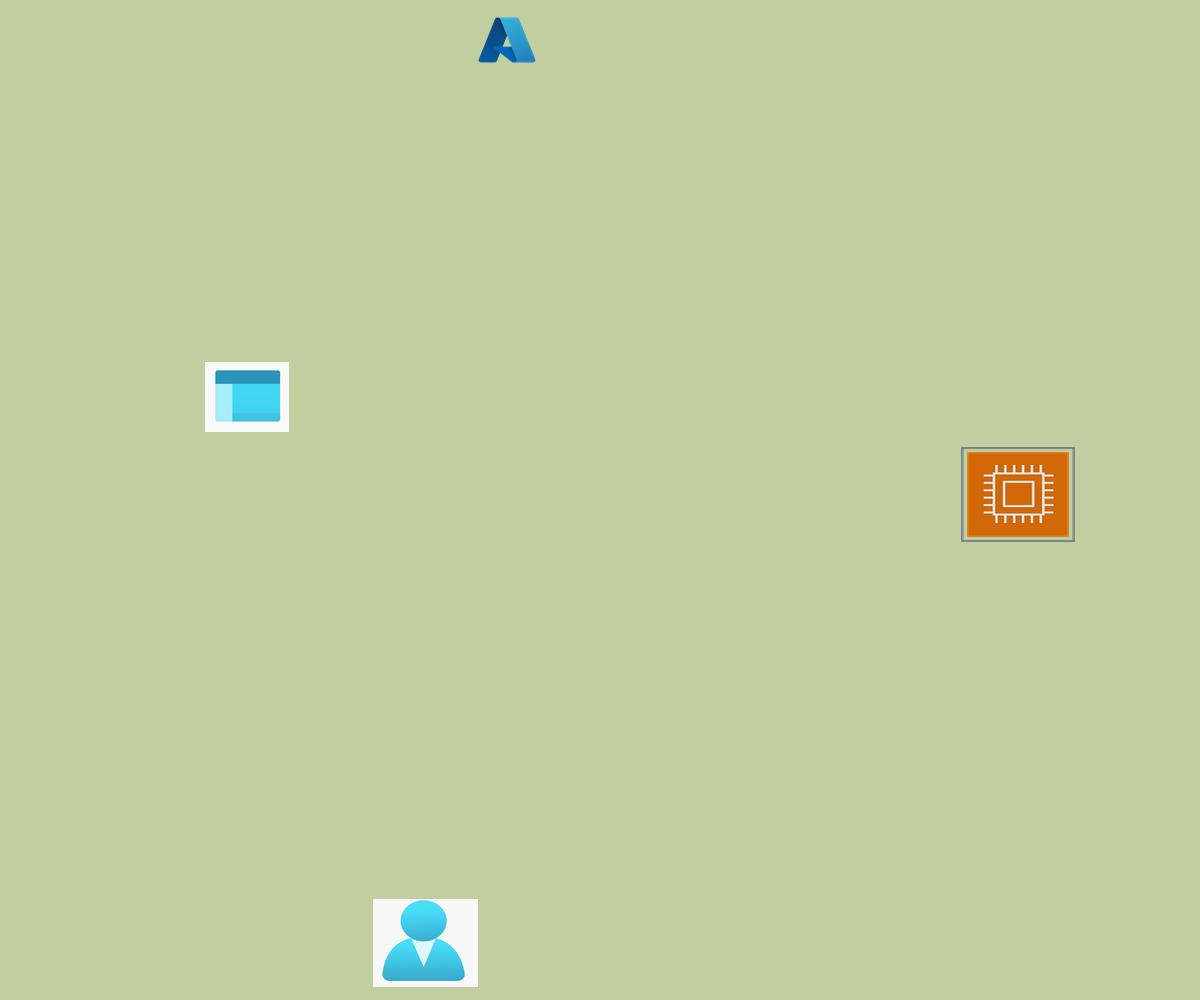AWS-Category_Compute: (961, 447, 1075, 542)
Azure_management-portal: (205, 362, 289, 432)
Azure_services: (476, 14, 538, 66)
Azure_users: (373, 899, 478, 987)
